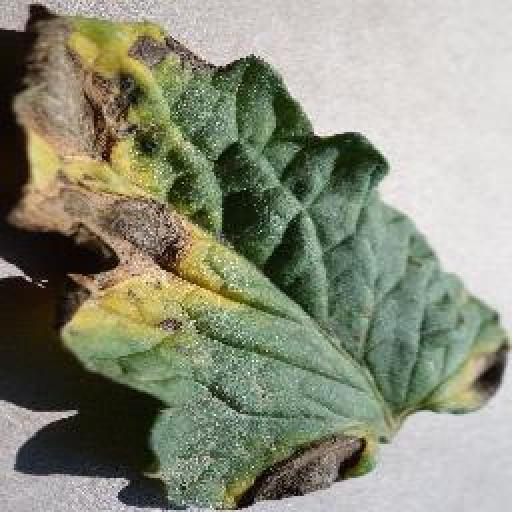disease_tomato: (19, 8, 507, 512)
